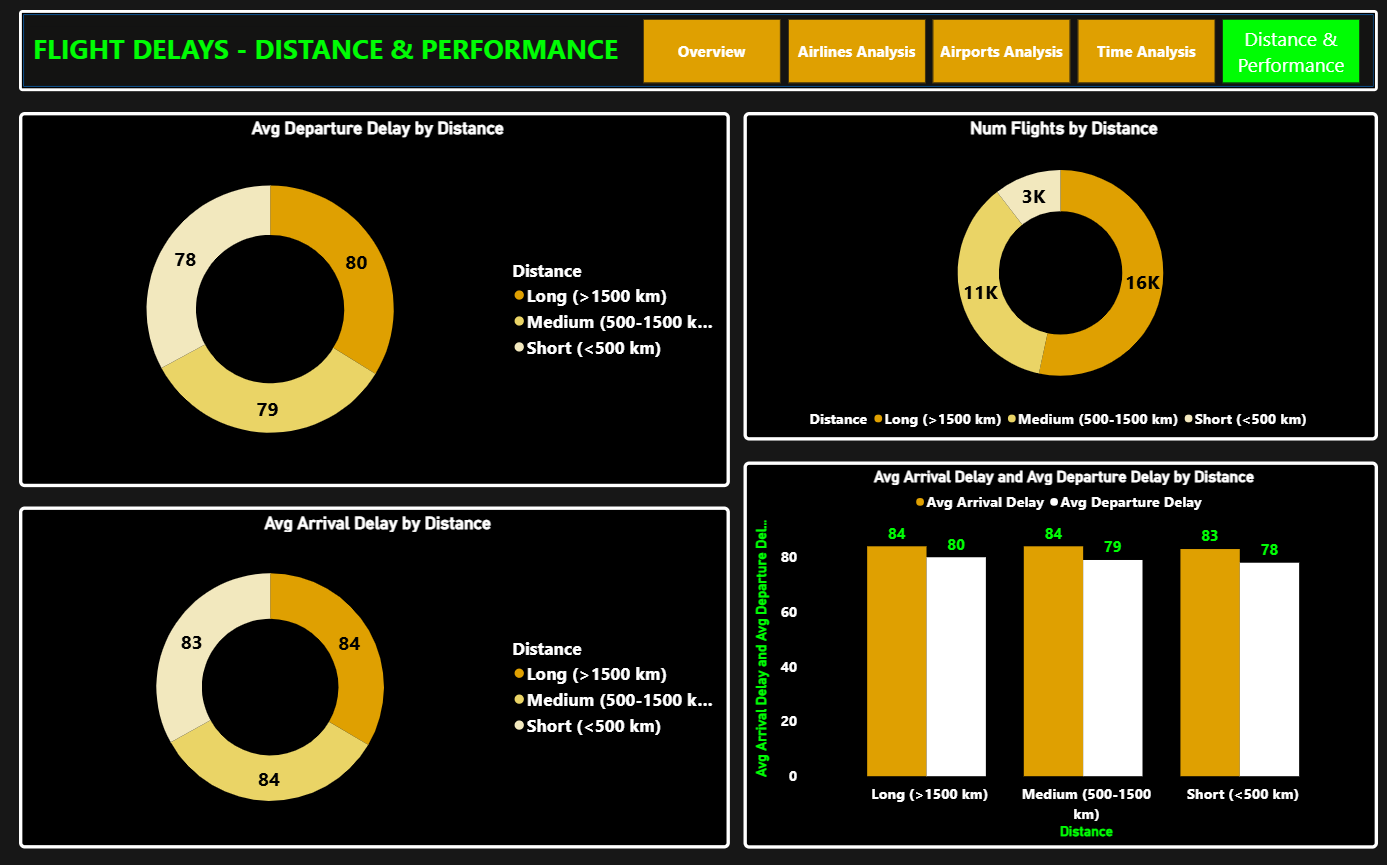

The page's visual inventory and layout, read from the dashboard file:
{"tool":"powerbi","page":{"name":"Distance & Performance","canvas":[1960,1220],"ordinal":4},"visuals":[{"type":"donutChart","fields":{"Category":["avg_dep_arr_delay_distance.distance"],"Y":["Sum(avg_dep_arr_delay_distance.avg_dep_delay)"]},"box":[45.8,166.6,986.8,520.5],"z":0},{"type":"clusteredColumnChart","fields":{"Y":["Sum(avg_dep_arr_delay_distance.avg_arr_delay)","Sum(avg_dep_arr_delay_distance.avg_dep_delay)"],"Category":["avg_dep_arr_delay_distance.distance"]},"box":[1051.4,651.6,880.6,537.1],"z":1000},{"type":"donutChart","fields":{"Category":["avg_dep_arr_delay_distance.distance"],"Y":["Sum(avg_dep_arr_delay_distance.num_flights)"]},"box":[1051.4,166.6,880.6,455.9],"z":2000},{"type":"donutChart","fields":{"Category":["avg_dep_arr_delay_distance.distance"],"Y":["Sum(avg_dep_arr_delay_distance.avg_arr_delay)"]},"box":[45.8,714.1,986.8,474.7],"z":3000},{"type":"shape","box":[45.8,25,1886.2,112.4],"z":4000},{"type":"textbox","box":[60.4,47.9,830.7,68.7],"z":5000},{"type":"pageNavigator","box":[911.9,37.5,999.3,89.5],"z":6000}]}

Visuals, with their boxes in screenshot pixels (x1, y1, x2, y2), scaled from the page's 1960x1220 canvas onto the 1387x865 screenshot:
donutChart - avg_dep_arr_delay_distance.distance x Sum(avg_dep_arr_delay_distance.avg_dep_delay): BBox(32, 118, 731, 487)
clusteredColumnChart - Sum(avg_dep_arr_delay_distance.avg_arr_delay) x Sum(avg_dep_arr_delay_distance.avg_dep_delay): BBox(744, 462, 1367, 843)
donutChart - avg_dep_arr_delay_distance.distance x Sum(avg_dep_arr_delay_distance.num_flights): BBox(744, 118, 1367, 441)
donutChart - avg_dep_arr_delay_distance.distance x Sum(avg_dep_arr_delay_distance.avg_arr_delay): BBox(32, 506, 731, 843)
shape: BBox(32, 18, 1367, 97)
textbox: BBox(43, 34, 631, 83)
pageNavigator: BBox(645, 27, 1352, 90)
